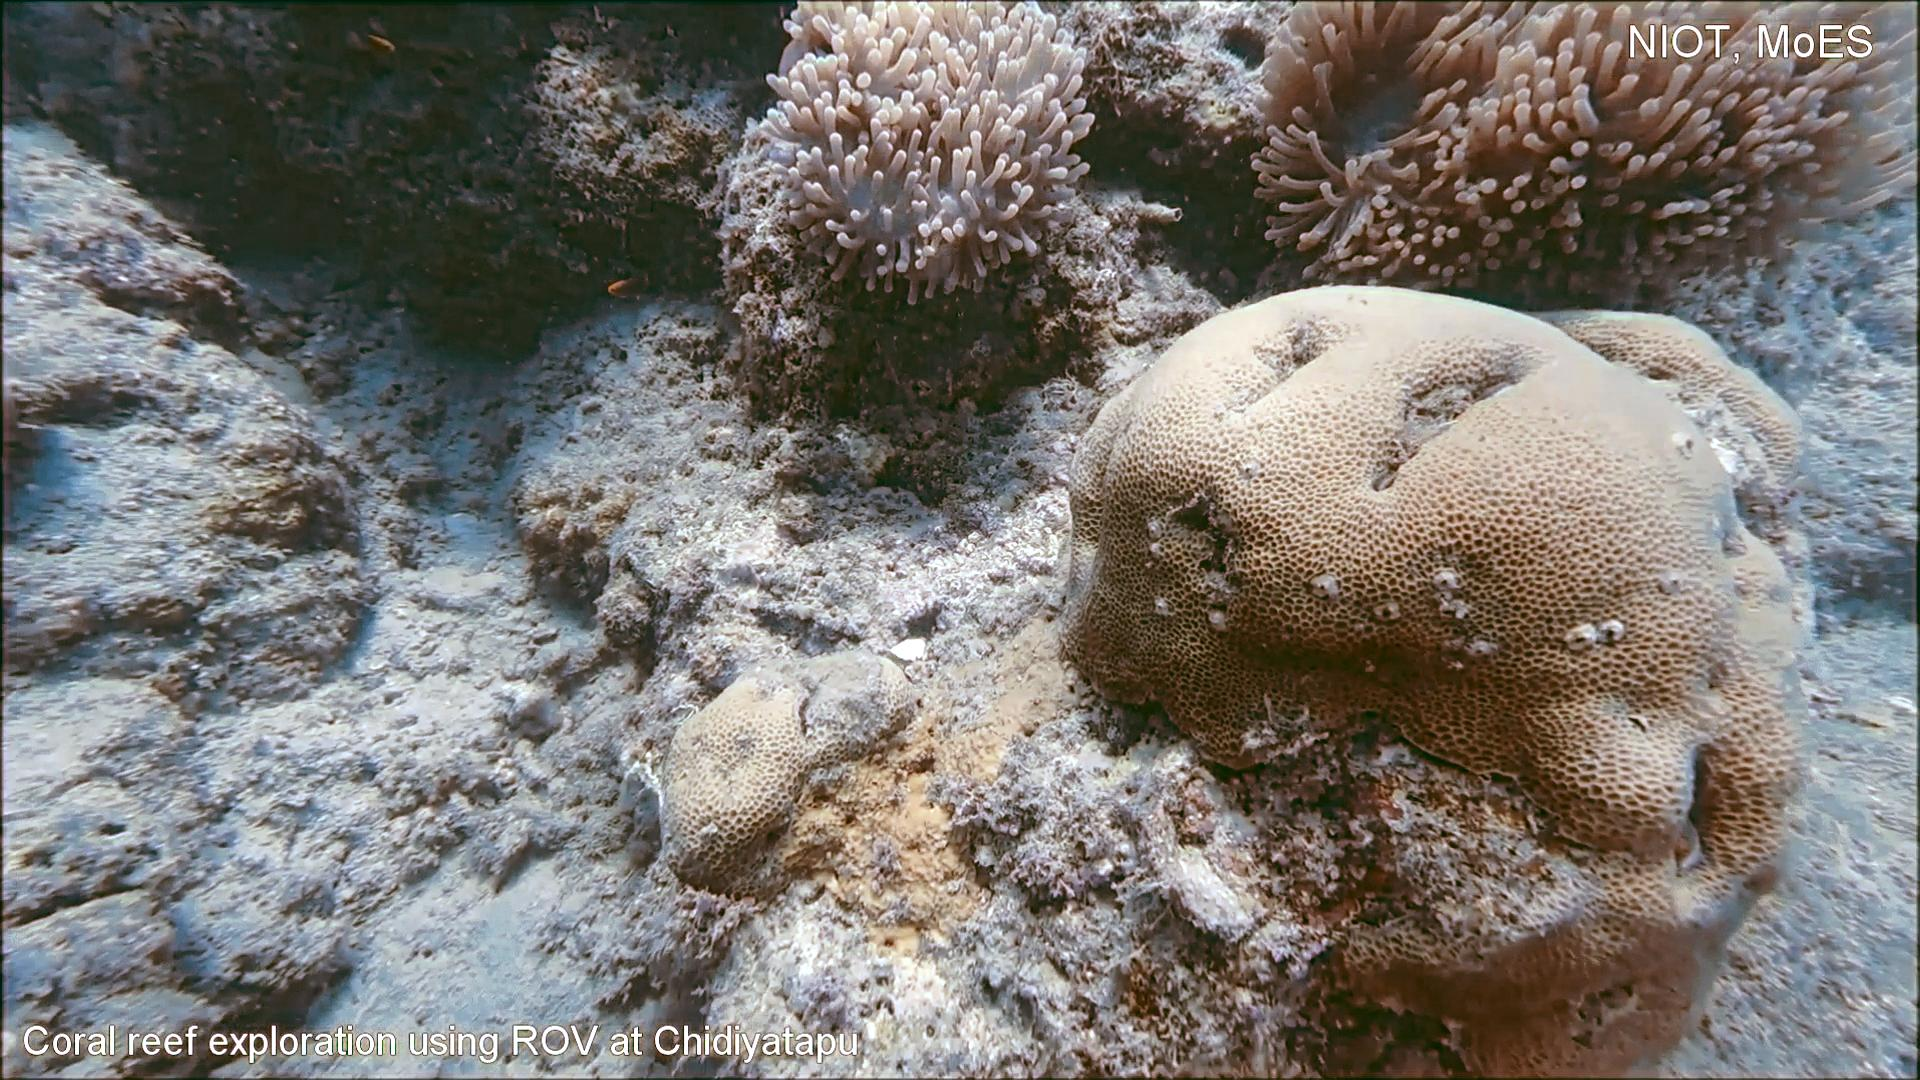Macrodactyla doreensis-Long tentacle Anemone: (1240, 0, 1920, 314), (752, 0, 1102, 318)
